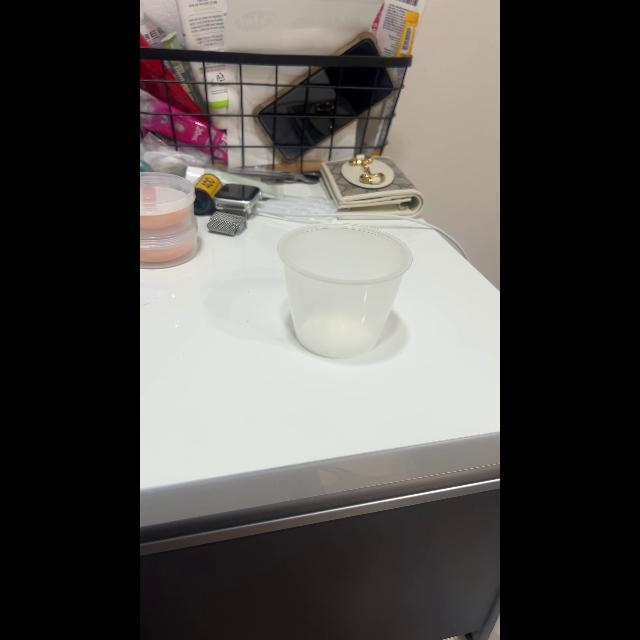clean: (274, 219, 414, 365)
